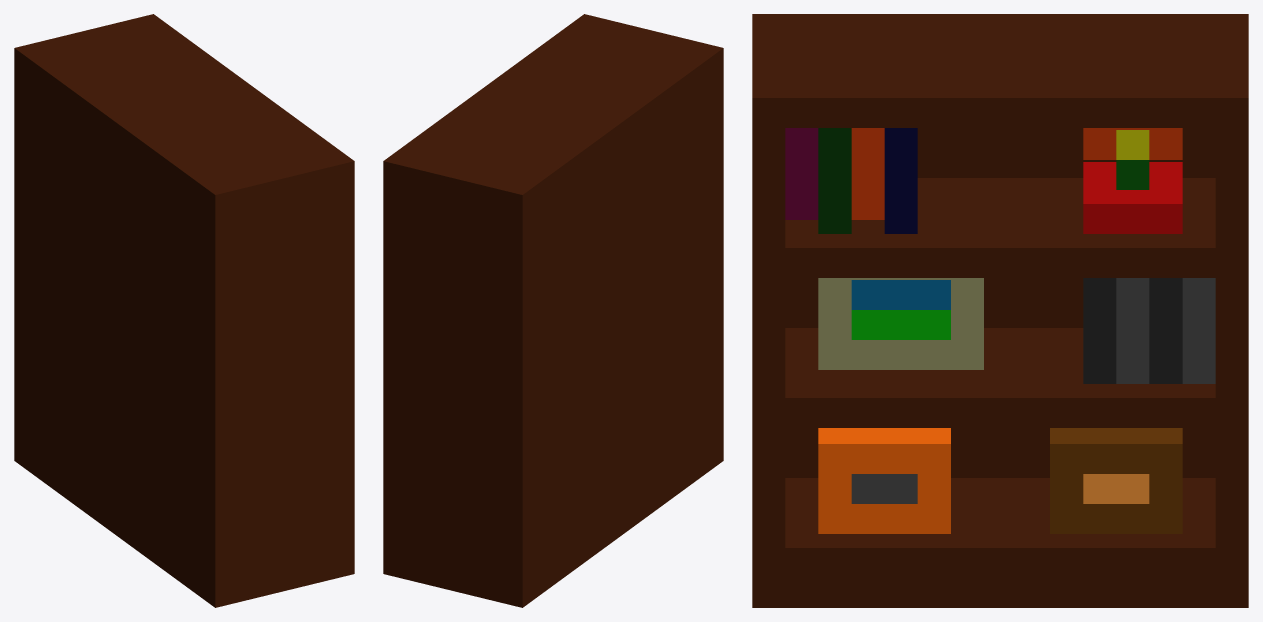
The model's file is shelf_1.obj.
3 renders of one model, left to right at view 1: azimuth 30°, elevation 25°; view 2: azimuth 150°, elevation 25°; view 3: azimuth 270°, elevation 25°, orthographic. The views are drawn at different scales.
Visible parts, largest first — view 1: shelf_1; view 2: shelf_1; view 3: shelf_1.
Boxes of the visible parts, box(x1,y1,x2,y2) form: shelf_1: box(14, 14, 354, 607); shelf_1: box(383, 14, 723, 607); shelf_1: box(752, 14, 1248, 607).
Bounding box in the file's own units: 6 × 17 × 15.
Materials: 1 (1 with a texture image).
